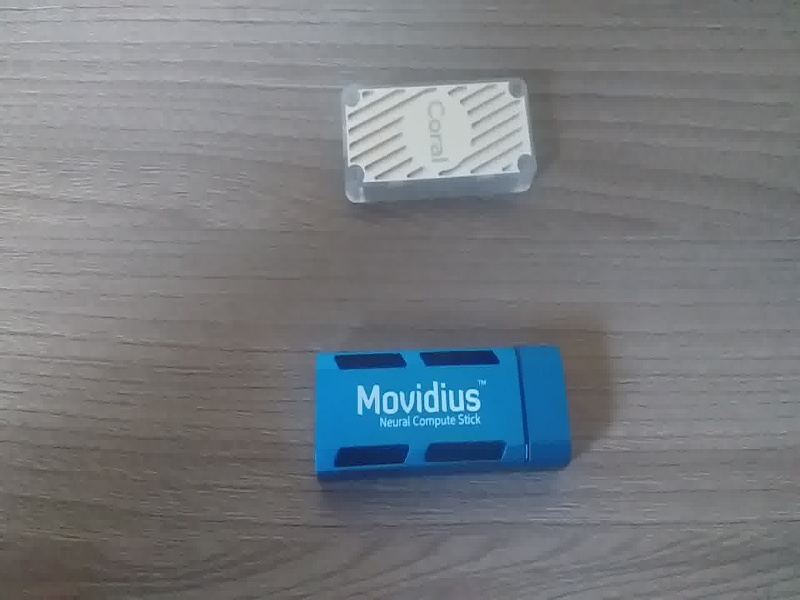coral: (326, 73, 551, 228)
movidius: (300, 336, 586, 492)
